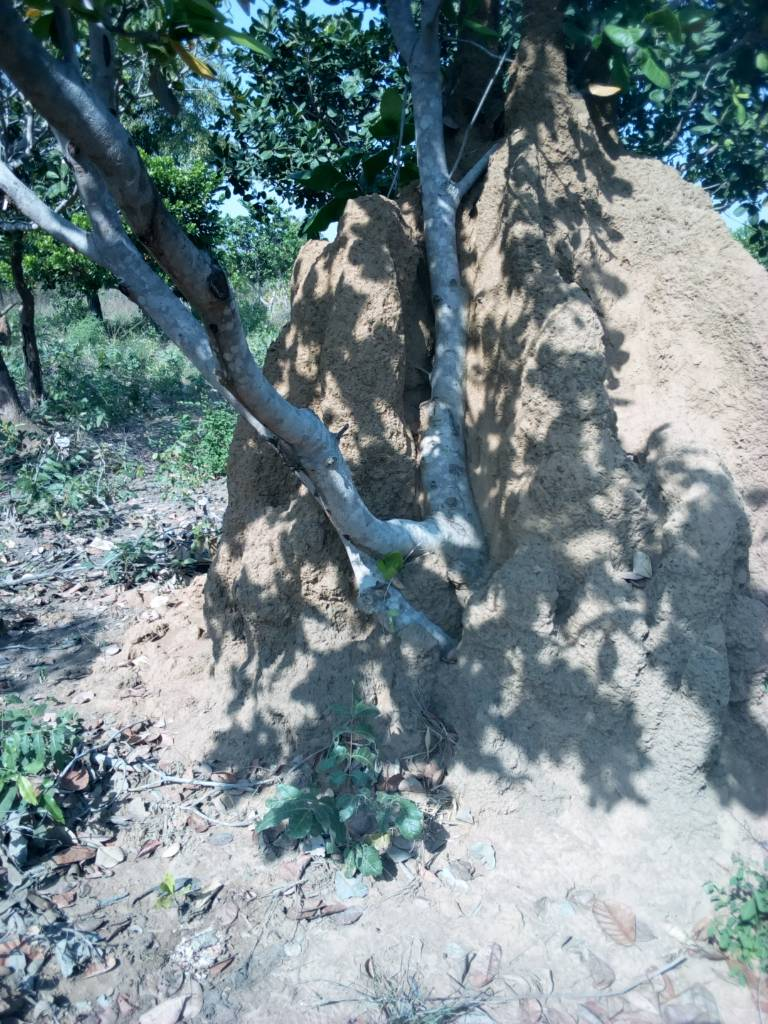Virose: (218, 118, 762, 880)
